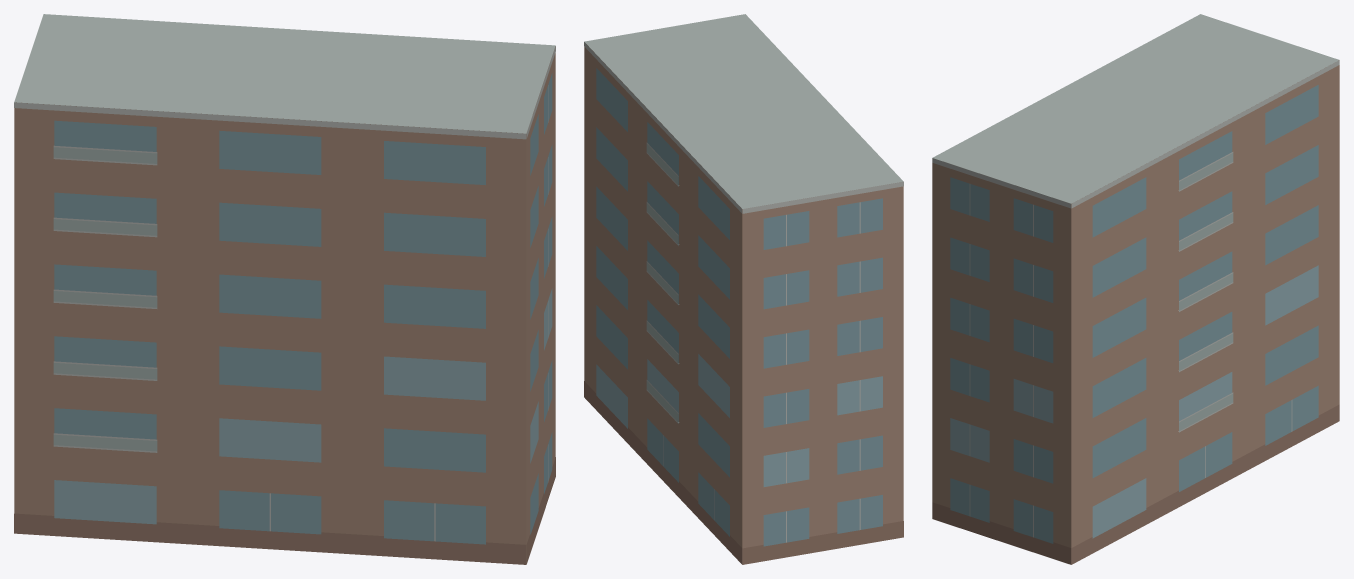
The model's file is survey-upis-32657473.glb.
3 views of the same model, side by side, from view 1: azimuth 30°, elevation 25°; view 2: azimuth 150°, elevation 25°; view 3: azimuth 270°, elevation 25° (orthographic). The views are drawn at different scales.
Parts seen in each view (by area): view 1: survey-upis-32657473.tmp; view 2: survey-upis-32657473.tmp; view 3: survey-upis-32657473.tmp.
Part boxes in pixels (bbox=[...]): survey-upis-32657473.tmp: bbox=[14, 14, 555, 564]; survey-upis-32657473.tmp: bbox=[584, 14, 903, 564]; survey-upis-32657473.tmp: bbox=[932, 14, 1339, 564].
Bounding box in the file's own units: 20.64 × 18.3 × 18.72.
